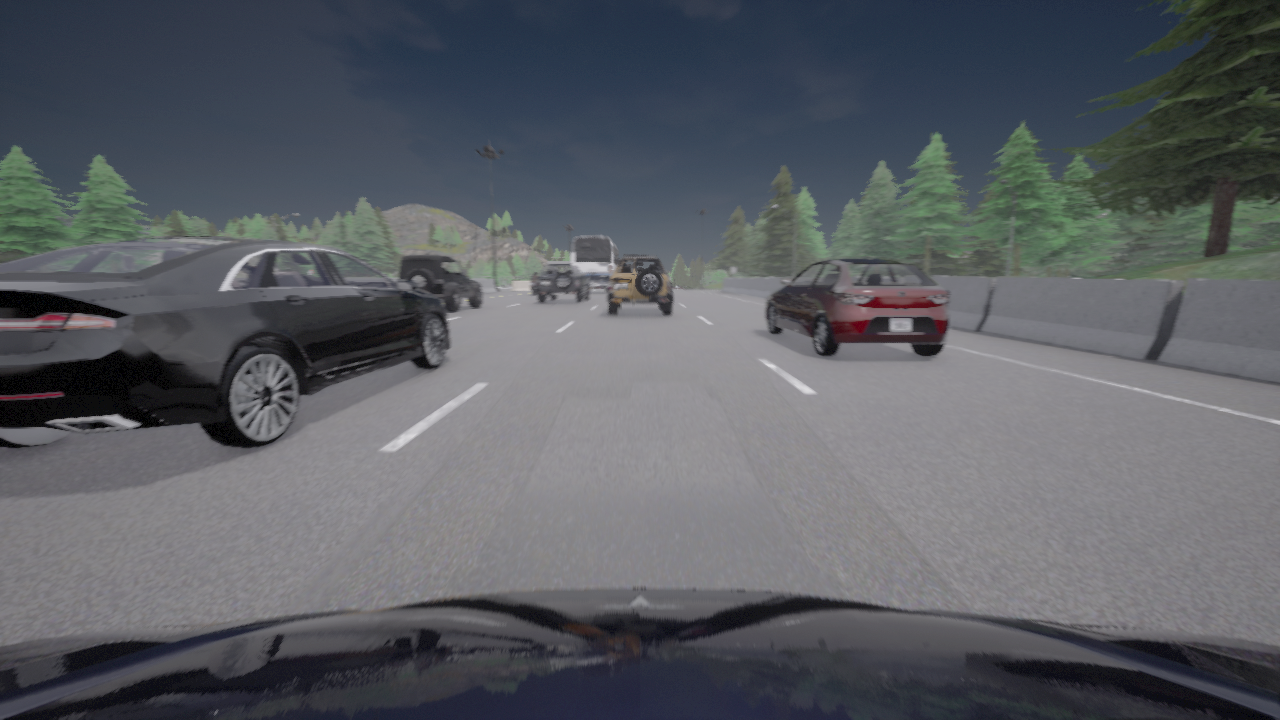cyclist: (0, 588, 1279, 719), (0, 237, 449, 448), (764, 258, 950, 356), (397, 254, 481, 311), (607, 254, 672, 314), (572, 236, 619, 292), (536, 261, 589, 302), (530, 280, 537, 294)
